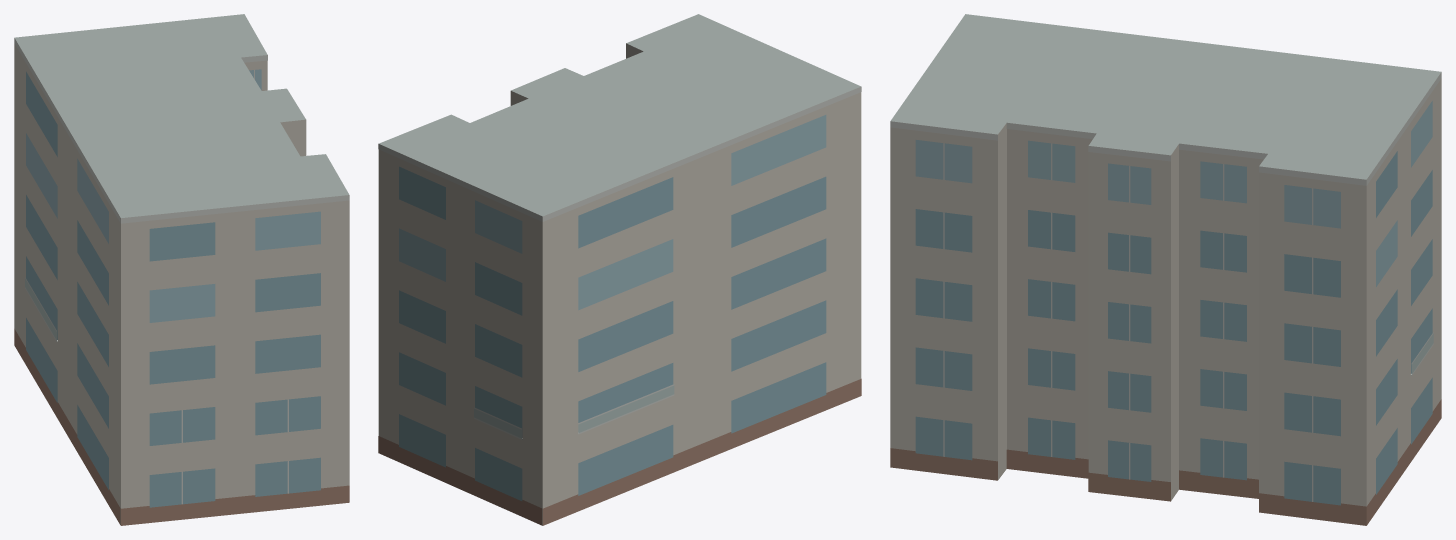
The model's file is survey-upis-32880117.glb.
3 renders of one model, left to right at view 1: azimuth 30°, elevation 25°; view 2: azimuth 150°, elevation 25°; view 3: azimuth 270°, elevation 25°, orthographic. The views are drawn at different scales.
Parts seen in each view (by area): view 1: survey-upis-32880117.tmp; view 2: survey-upis-32880117.tmp; view 3: survey-upis-32880117.tmp.
Boxes of the visible parts, box(x1,y1,x2,y2) form: survey-upis-32880117.tmp: box(14, 14, 349, 525); survey-upis-32880117.tmp: box(378, 14, 861, 525); survey-upis-32880117.tmp: box(890, 14, 1441, 525).
Size of the model in its own units: 14.08 by 13.7 by 19.79.
